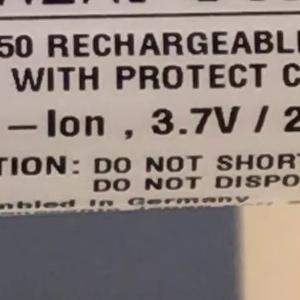keyword: (141, 96, 247, 145)
